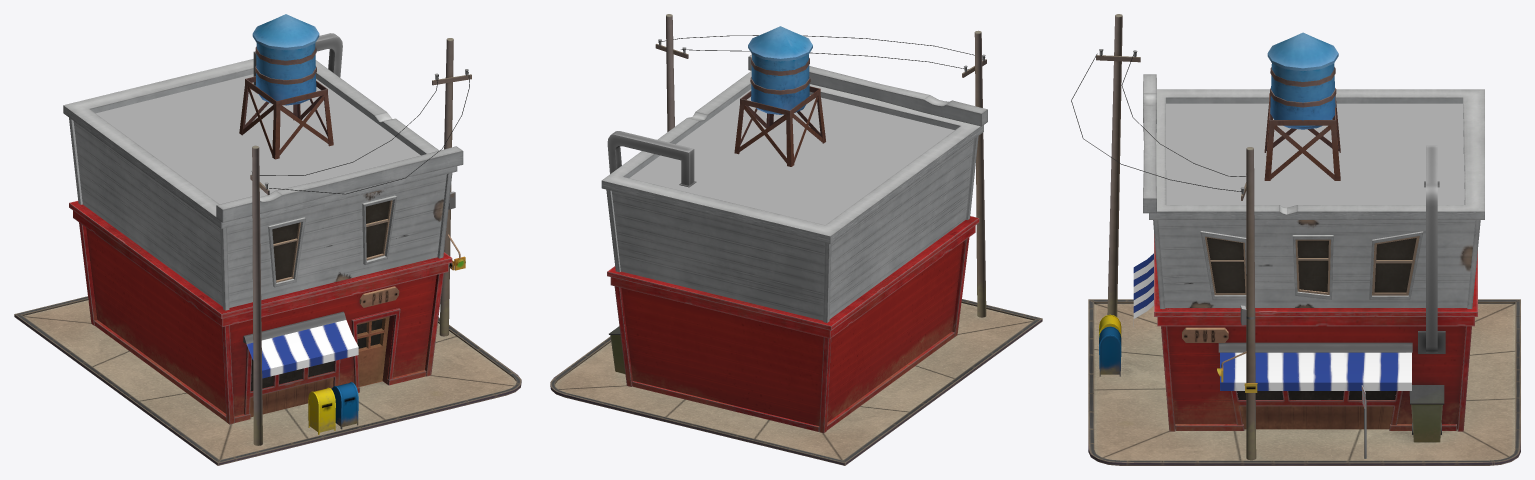
File: HOS0610002.FBX
3 renders of one model, left to right at view 1: azimuth 30°, elevation 25°; view 2: azimuth 150°, elevation 25°; view 3: azimuth 270°, elevation 25°, orthographic. The views are drawn at different scales.
Visible parts, largest first — view 1: smHOS0610002; view 2: smHOS0610002; view 3: smHOS0610002.
Boxes of the visible parts, x1,y1,x2,y2 form: smHOS0610002: (14,14,521,465); smHOS0610002: (550,14,1042,465); smHOS0610002: (1071,14,1520,465).
Bounding box in the file's own units: 1069 × 1056 × 1203.
Materials: 1 (1 with a texture image).
